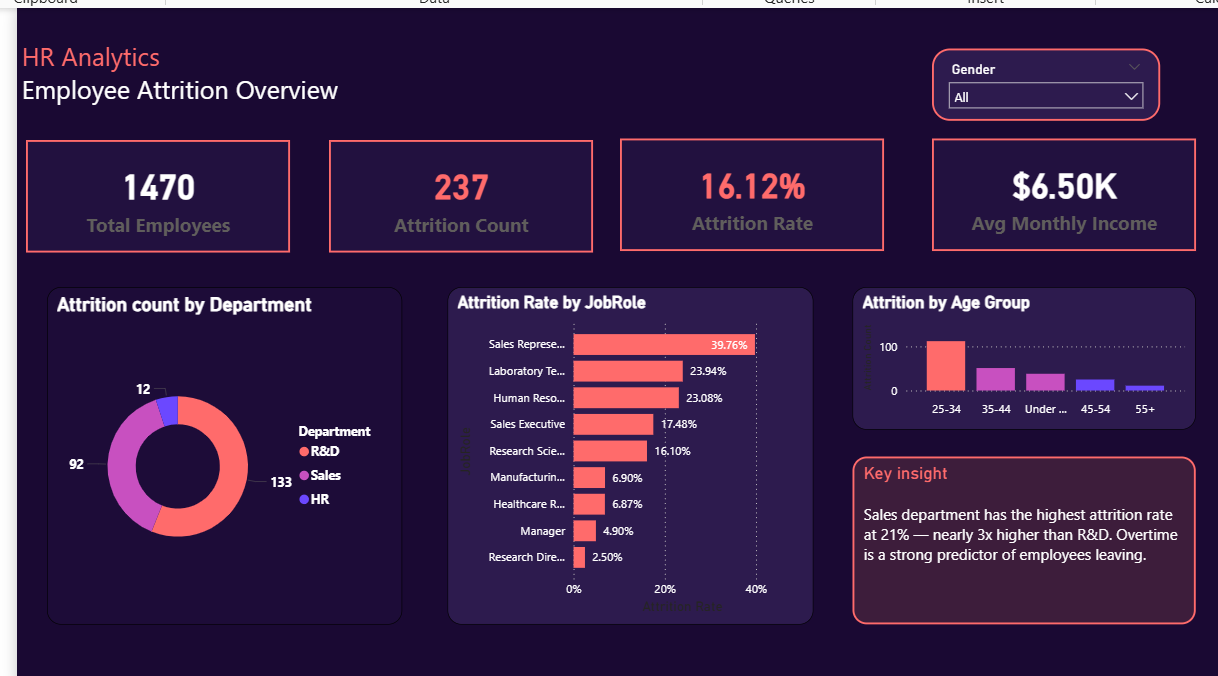

This screenshot's page, from the dashboard's own definition file:
{"tool":"powerbi","page":{"name":"overview","canvas":[1280,720],"ordinal":0},"visuals":[{"type":"card","fields":{"Values":["HR_Analytics.Total Employees"]},"box":[9.5,140,279.9,119.3],"z":0},{"type":"card","fields":{"Values":["HR_Analytics.Attrition Count"]},"box":[330.8,140,279.9,119.3],"z":1000},{"type":"card","fields":{"Values":["HR_Analytics.Attrition Rate"]},"box":[639.4,138.4,279.9,119.3],"z":2000},{"type":"card","fields":{"Values":["HR_Analytics.Avg Monthly Income"]},"box":[970.3,138.4,279.9,119.3],"z":3000},{"type":"donutChart","title":"Attrition count by Department","fields":{"Category":["HR_Analytics.Department"],"Y":["HR_Analytics.Attrition Count"]},"box":[31.8,295.9,377,357.9],"z":4000},{"type":"clusteredBarChart","fields":{"Category":["HR_Analytics.JobRole"],"Y":["HR_Analytics.Attrition Rate"]},"box":[456.5,295.9,388.1,357.9],"z":5000},{"type":"clusteredColumnChart","title":"Attrition by Age Group","fields":{"Y":["HR_Analytics.Attrition Count"],"Category":["HR_Analytics.Age Group"]},"box":[886,295.9,364.2,151.1],"z":6000},{"type":"slicer","fields":{"Values":["HR_Analytics.Gender"]},"box":[970.3,42.9,241.8,76.3],"z":7000},{"type":"textbox","title":"Key insight","box":[886,475.6,364.2,178.1],"z":8000},{"type":"textbox","box":[0,27,470.8,92.3],"z":9000},{"type":"textbox","box":[31.8,666.5,299,54.1],"z":9001}]}

Visuals, with their boxes on the page's 1280x720 design canvas (x1, y1, x2, y2). These are canvas units, not pixel positions in the 1218x676 screenshot, which may show the page scaled, cropped or inside an application window:
card - HR_Analytics.Total Employees: 10,140,289,259
card - HR_Analytics.Attrition Count: 331,140,611,259
card - HR_Analytics.Attrition Rate: 639,138,919,258
card - HR_Analytics.Avg Monthly Income: 970,138,1250,258
"Attrition count by Department" donutChart: 32,296,409,654
clusteredBarChart - HR_Analytics.JobRole x HR_Analytics.Attrition Rate: 456,296,845,654
"Attrition by Age Group" clusteredColumnChart: 886,296,1250,447
slicer - HR_Analytics.Gender: 970,43,1212,119
"Key insight" textbox: 886,476,1250,654
textbox: 0,27,471,119
textbox: 32,666,331,721
